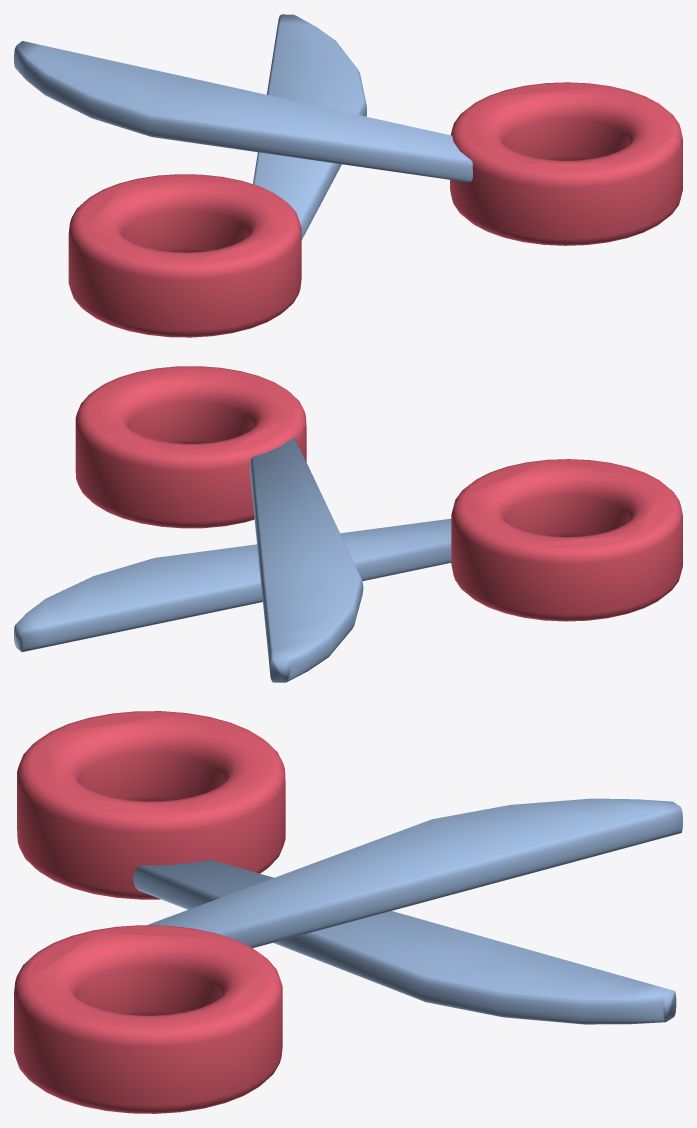
Rendered from scissor_nonanimate.fbx.
3 renders of one model, top to bottom at view 1: azimuth 30°, elevation 25°; view 2: azimuth 150°, elevation 25°; view 3: azimuth 270°, elevation 25°, orthographic. The views are drawn at different scales.
Visible parts, largest first — view 1: msağ.002; view 2: msağ.002; view 3: msağ.002.
Part boxes in pixels (x1,y1,x2,y2): msağ.002: (14,14,682,337); msağ.002: (14,366,682,682); msağ.002: (14,711,682,1113).
Size of the model in its own units: 361 by 43.43 by 312.
